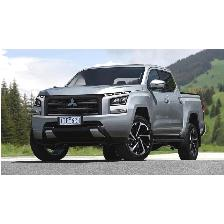NON-EV: (30, 65, 206, 164)
